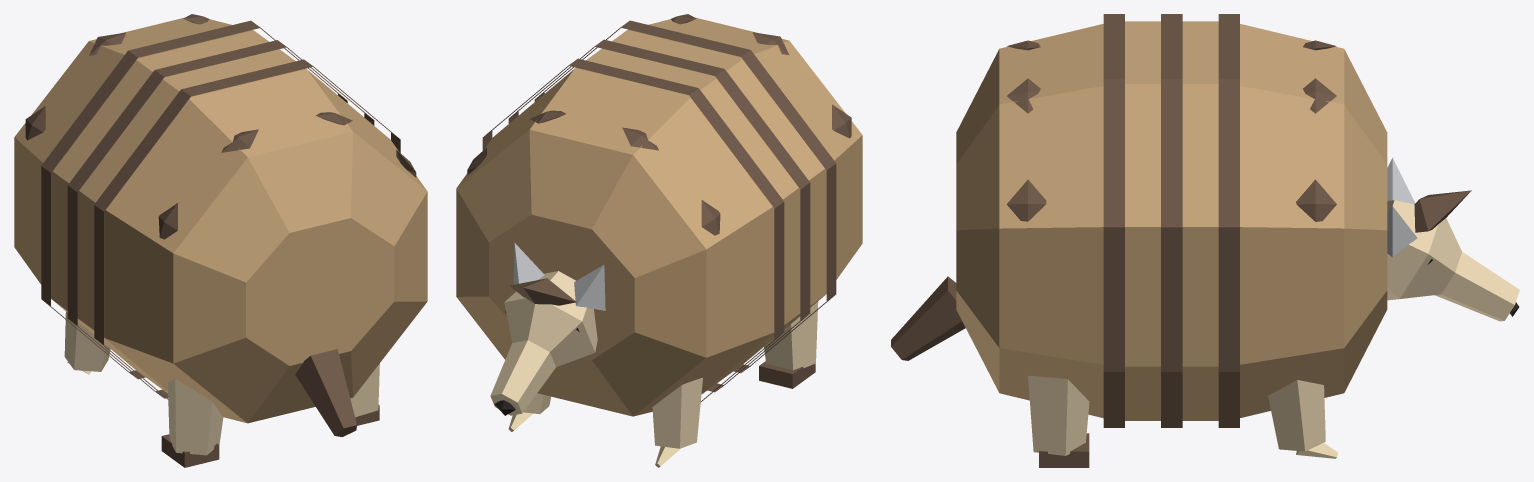
File: tatu_bola.glb
The picture shows the model from 3 angles, left to right: view 1: azimuth 30°, elevation 25°; view 2: azimuth 150°, elevation 25°; view 3: azimuth 270°, elevation 25°; orthographic projection. The views are drawn at different scales.
Visible parts, largest first — view 1: corpo; view 2: corpo; view 3: corpo.
Boxes of the visible parts, box(x1,y1,x2,y2) form: corpo: box(14, 14, 427, 467); corpo: box(456, 14, 862, 467); corpo: box(891, 14, 1519, 467).
Size of the model in its own units: 0.5911 by 0.6542 by 1.
